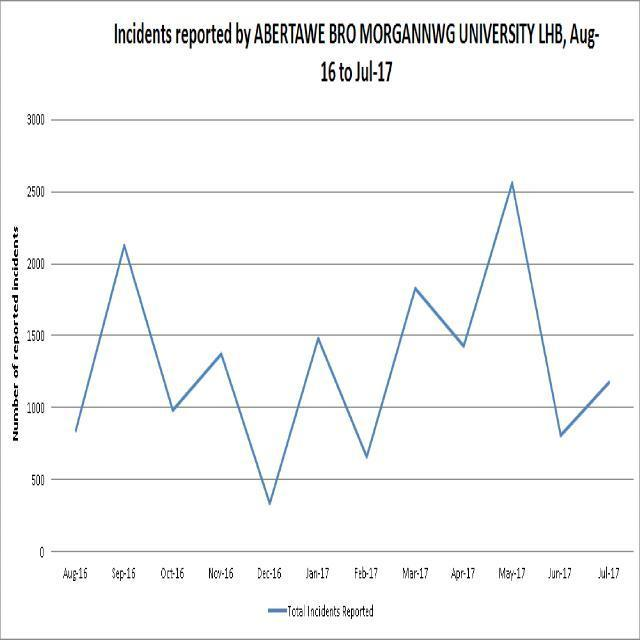axis: (50, 545, 636, 559), (49, 90, 58, 559)
line: (71, 169, 616, 515)
